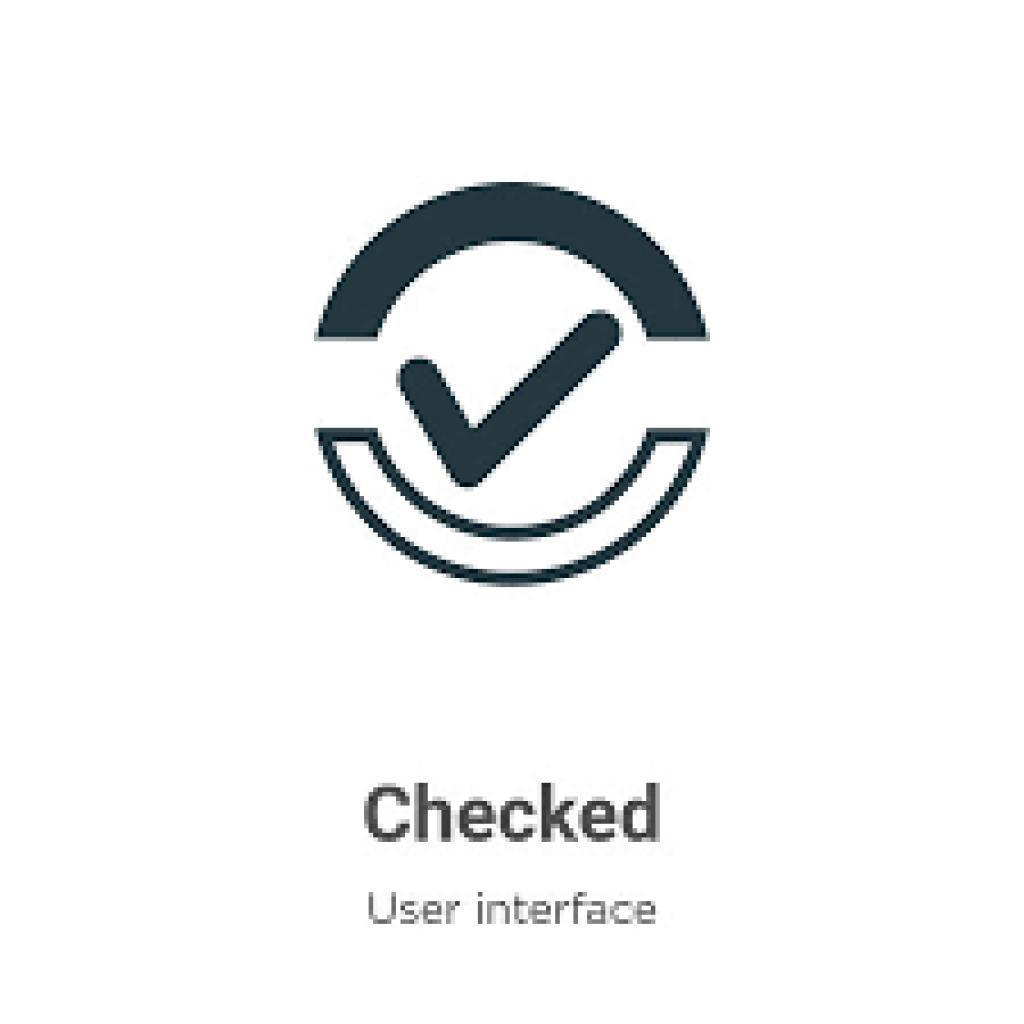checkbox: (314, 181, 711, 590)
